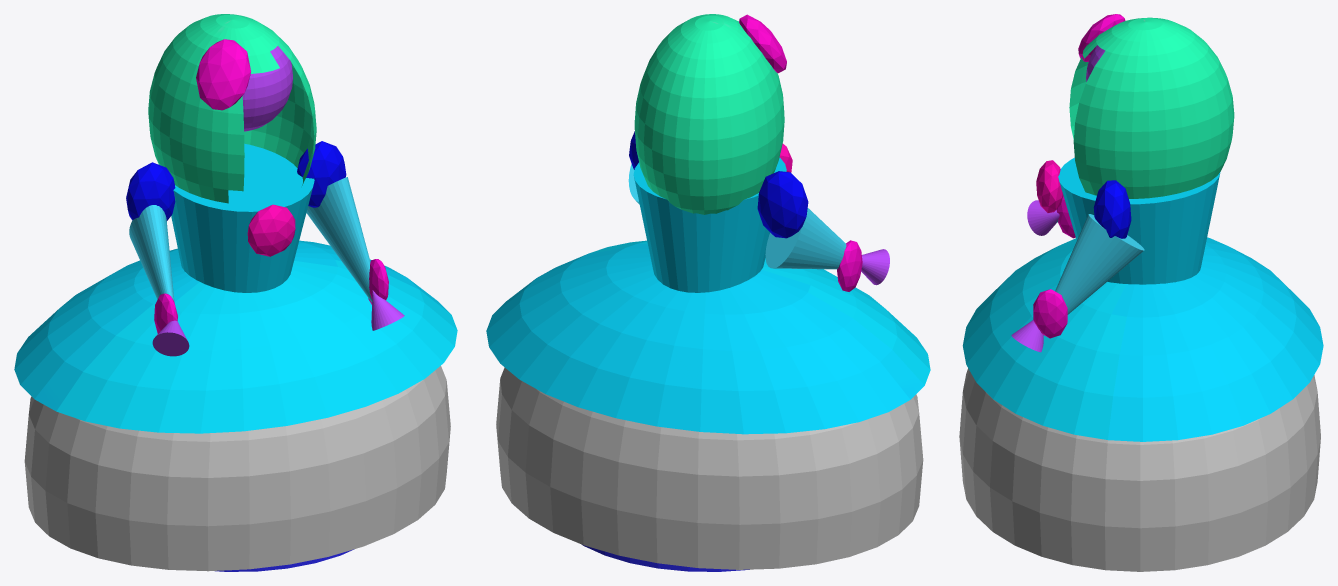
File: menina.glb
3 views of the same model, side by side, from view 1: azimuth 30°, elevation 25°; view 2: azimuth 150°, elevation 25°; view 3: azimuth 270°, elevation 25° (orthographic). The views are drawn at different scales.
Visible parts, largest first — view 1: Esfera, Esfera.001, Esfera.003, Cono, Cono.002, Esfera geodésica.003, Cono.003, Esfera.002, Esfera geodésica.002, Esfera geodésica, Esfera geodésica.001, Cono.004 (+3 smaller); view 2: Esfera.001, Esfera, Esfera.003, Cono, Cono.003, Esfera geodésica.002, Esfera geodésica.003, Esfera geodésica.005, Cono.004, Cilindro; view 3: Esfera.001, Esfera, Esfera.003, Cono, Cono.002, Esfera geodésica.001, Esfera geodésica.004, Esfera geodésica, Cono.004, Esfera geodésica.003, Cono.001.
Part boxes in pixels (x1,y1,x2,y2): Esfera: (24,366,450,571); Esfera.001: (14,240,457,433); Esfera.003: (148,14,316,203); Cono: (171,143,314,292); Cono.002: (306,177,372,302); Esfera geodésica.003: (196,39,250,110); Cono.003: (129,205,174,300); Esfera.002: (242,46,292,131); Esfera geodésica.002: (126,162,175,220); Esfera geodésica: (247,204,295,256); Esfera geodésica.001: (297,141,346,207); Cono.004: (152,320,189,356); Esfera.001: (486,240,930,434); Esfera: (496,367,923,569); Esfera.003: (634,14,784,214); Cono: (633,157,786,292); Cono.003: (765,208,846,269); Esfera geodésica.002: (757,171,808,238); Esfera geodésica.003: (739,14,786,73); Esfera geodésica.005: (837,240,862,291); Cono.004: (861,249,889,285); Cilindro: (582,544,749,571); Esfera.001: (962,237,1323,441); Esfera: (959,368,1320,571); Esfera.003: (1069,17,1234,198); Cono: (1058,158,1220,284); Cono.002: (1055,214,1144,314); Esfera geodésica.001: (1093,180,1131,238); Esfera geodésica.004: (1033,289,1067,338); Esfera geodésica: (1036,160,1063,212); Cono.004: (1027,200,1059,235); Esfera geodésica.003: (1078,14,1125,61); Cono.001: (1011,320,1043,352).
Size of the model in its own units: 2.52 by 2.92 by 2.01.
16 materials, 16 textured.
